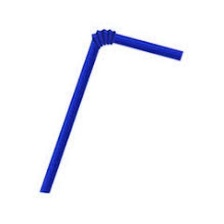drinking_straw: (26, 21, 188, 198)
